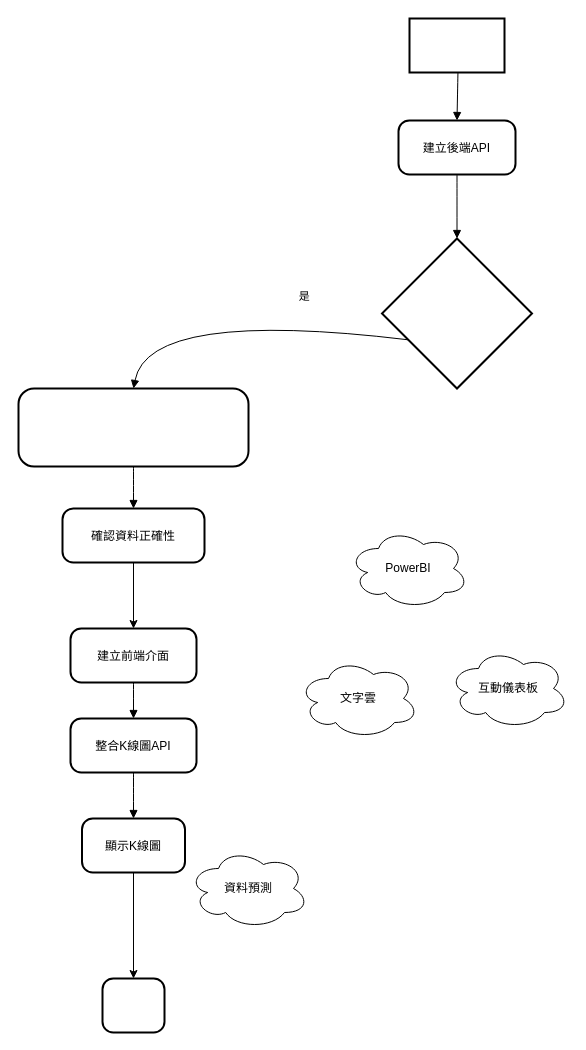
The diagram is 586 pixels wide and 1050 high, and some of its shapes have lost their labels. The centre of each missing label's shape, as x and y in pixels:
"Start" goes at pixel 456 45.
"完成" goes at pixel 133 1005.
"撰寫程式碼取得幣安虛擬貨幣資料" goes at pixel 133 427.
"確認資料需求" goes at pixel 456 313.
